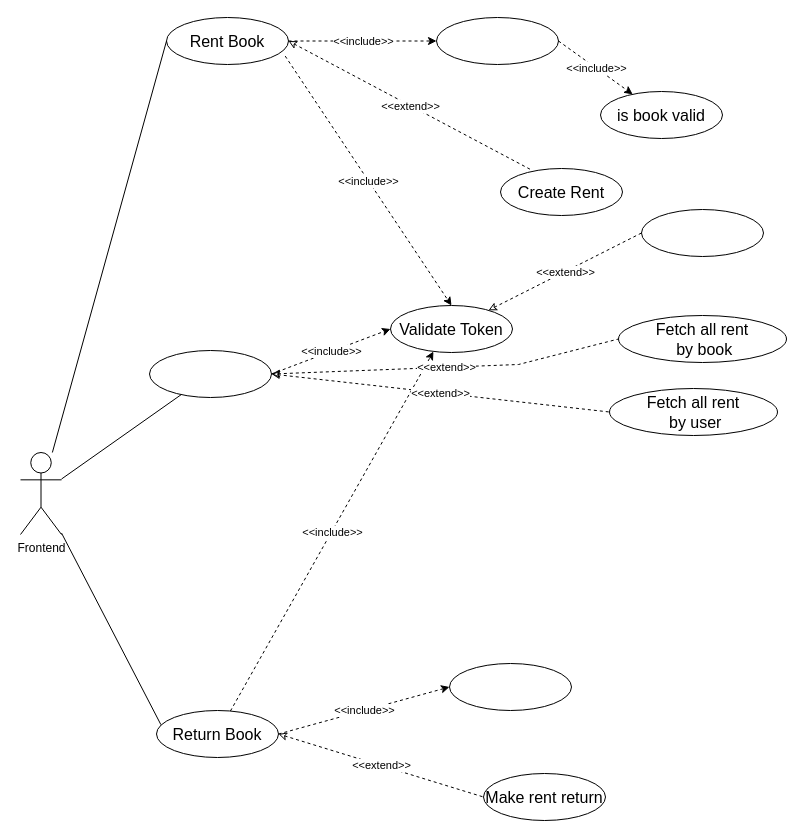
Image size: 804x838. Some labels were removed from this diagram. Each missing label, with the centre of its shape:
ALL RENTS: point 210,374
Is ADMIN: point 702,232
Is Book available: point 497,40
Is Rent valid: point 510,686
